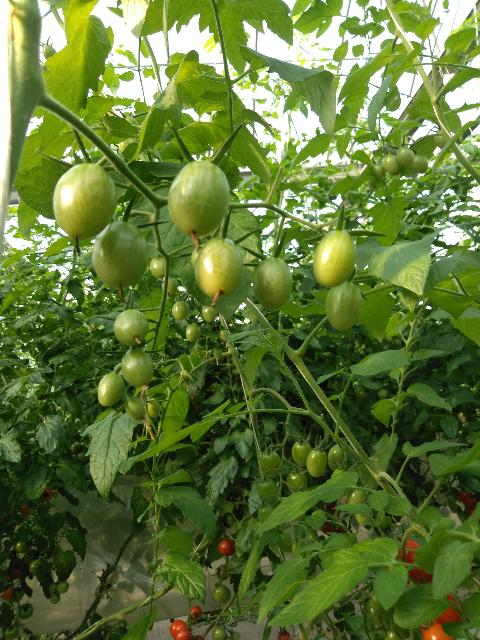l_fully_ripened: (398, 540, 435, 584), (218, 539, 234, 556), (174, 626, 192, 640), (170, 619, 183, 637), (190, 605, 202, 620), (175, 621, 189, 633)
l_green: (53, 163, 118, 240), (167, 161, 231, 239), (92, 219, 148, 289), (193, 237, 243, 299), (313, 228, 357, 288), (253, 257, 293, 311), (326, 281, 363, 331), (113, 309, 149, 347), (121, 347, 154, 388), (97, 371, 125, 407), (306, 447, 327, 478), (259, 450, 280, 479), (258, 479, 279, 506), (327, 444, 348, 471), (291, 440, 312, 466), (286, 470, 308, 494), (124, 399, 146, 420), (346, 484, 366, 504), (395, 146, 414, 167), (276, 530, 293, 553), (150, 255, 166, 279), (383, 154, 400, 175), (411, 153, 428, 174), (172, 301, 189, 320), (258, 504, 275, 523), (291, 540, 307, 560), (185, 323, 200, 343), (201, 306, 218, 323), (162, 277, 178, 295), (145, 399, 160, 418), (18, 603, 34, 620), (434, 129, 447, 149), (29, 559, 45, 575), (213, 585, 228, 601), (15, 538, 30, 553), (371, 164, 384, 179), (212, 627, 226, 640), (355, 514, 370, 526), (56, 582, 69, 594), (50, 593, 61, 604), (220, 328, 229, 341), (49, 582, 58, 594), (214, 348, 222, 359), (181, 372, 190, 379)
